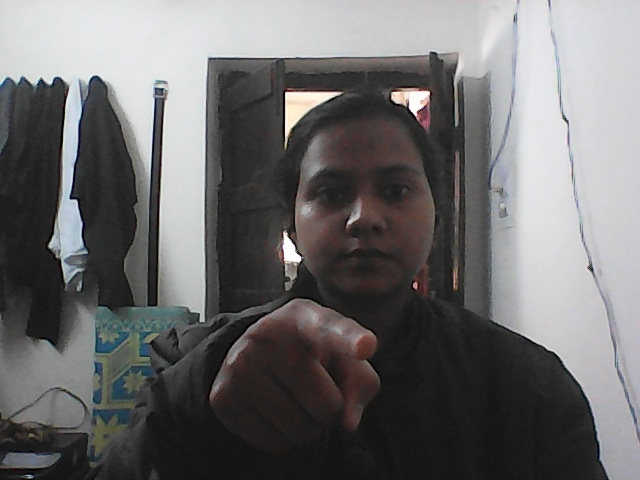You: (196, 265, 446, 445)
